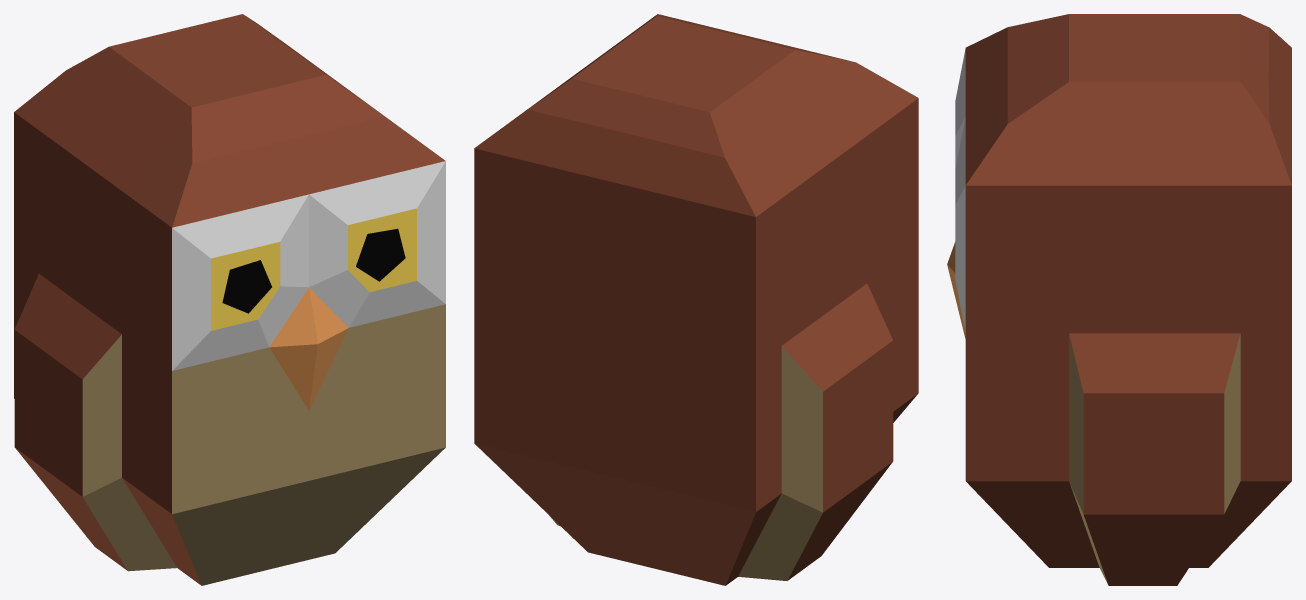
Rendered from Mostly Ghostly Character.fbx.
3 renders of one model, left to right at view 1: azimuth 30°, elevation 25°; view 2: azimuth 150°, elevation 25°; view 3: azimuth 270°, elevation 25°, orthographic. The views are drawn at different scales.
Visible parts, largest first — view 1: Cube.017; view 2: Cube.017; view 3: Cube.017.
Part boxes in pixels (box(x1,y1,x2,y2)): Cube.017: box(14, 14, 445, 585); Cube.017: box(474, 14, 918, 585); Cube.017: box(947, 14, 1291, 585).
Bounding box in the file's own units: 247 × 329 × 211.
Materials: 6 (1 with a texture image).
